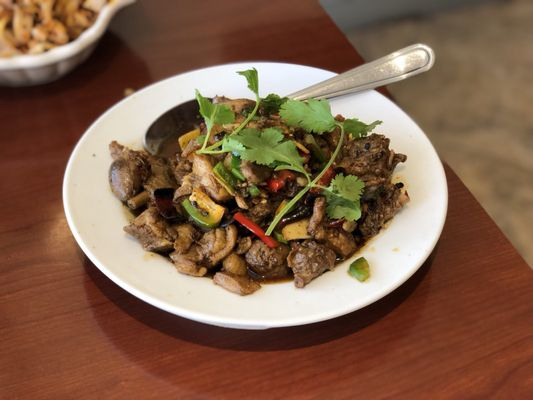salad: (277, 42, 436, 104)
sandwich: (274, 43, 437, 101)
sushi: (0, 0, 138, 89)
